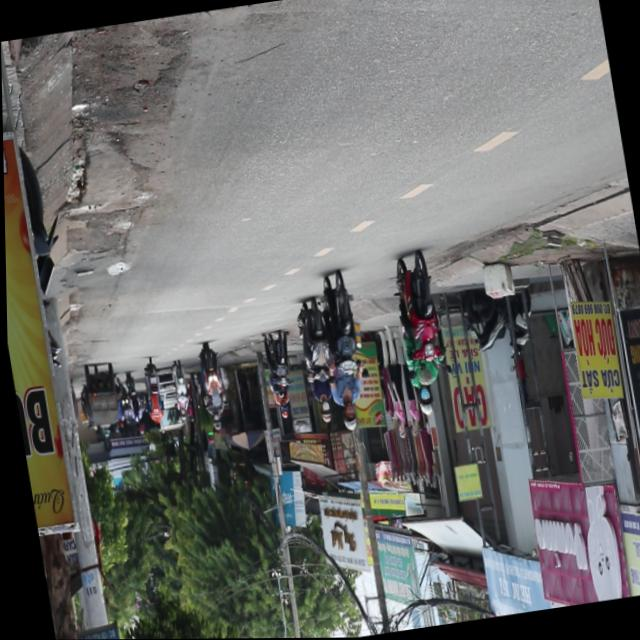helmet: (416, 385, 435, 417), (340, 402, 359, 434)
licenseplate: (385, 249, 457, 418), (311, 269, 377, 436)
